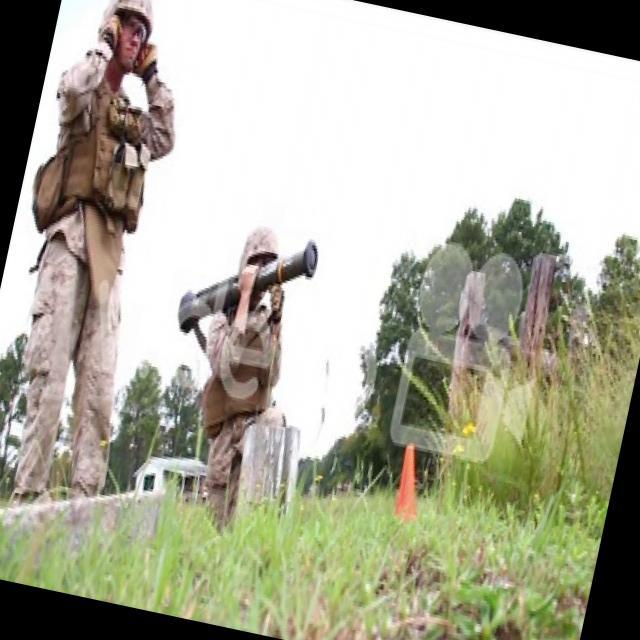rocket: (174, 214, 324, 358)
